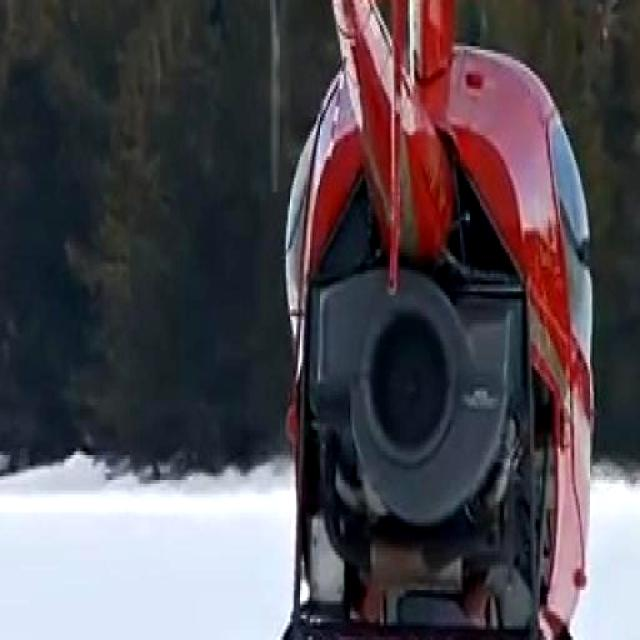drone: (142, 0, 640, 640)
